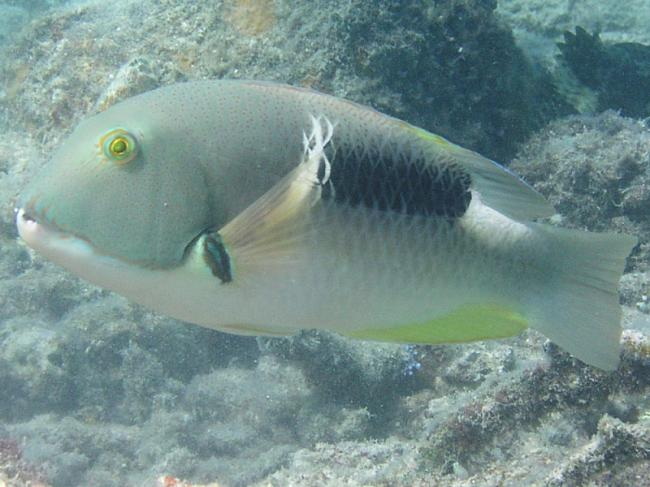fish: (17, 80, 638, 370)
